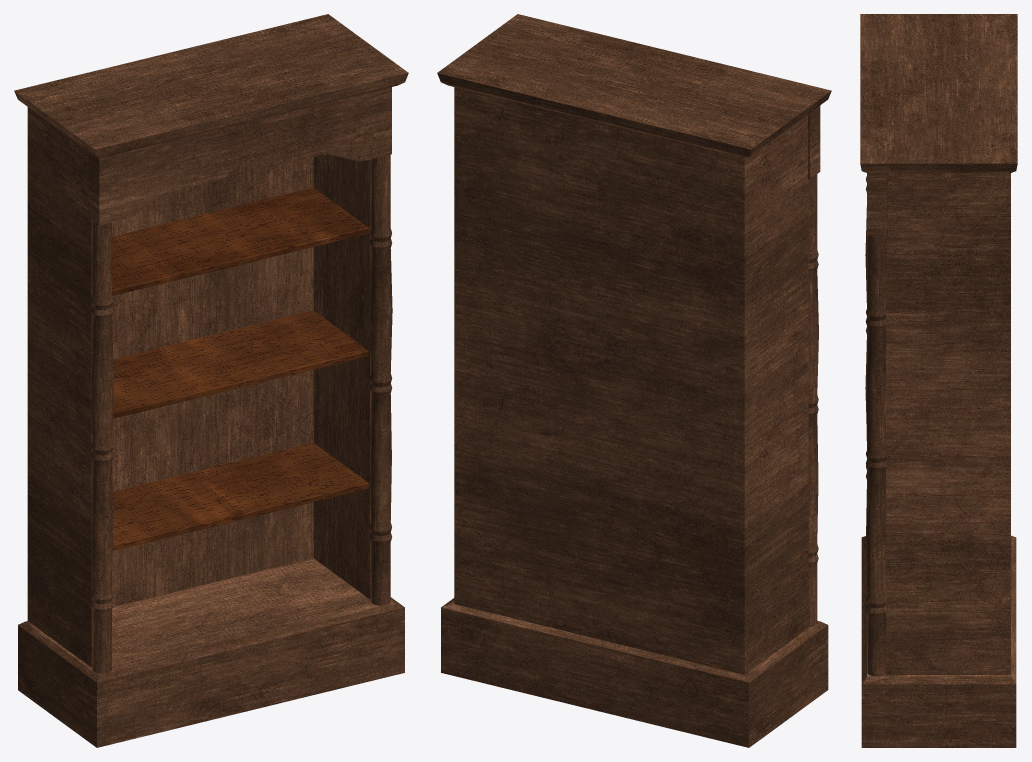
Rendered from shelf.glb.
3 renders of one model, left to right at view 1: azimuth 30°, elevation 25°; view 2: azimuth 150°, elevation 25°; view 3: azimuth 270°, elevation 25°, orthographic. The views are drawn at different scales.
Visible parts, largest first — view 1: Shelf; view 2: Shelf; view 3: Shelf.
Part boxes in pixels (box(x1,y1,x2,y2)): Shelf: box(14, 14, 408, 747); Shelf: box(437, 14, 831, 747); Shelf: box(860, 14, 1017, 747).
Size of the model in its own units: 1.1 by 2.01 by 0.4905.
1 material, 1 textured.
